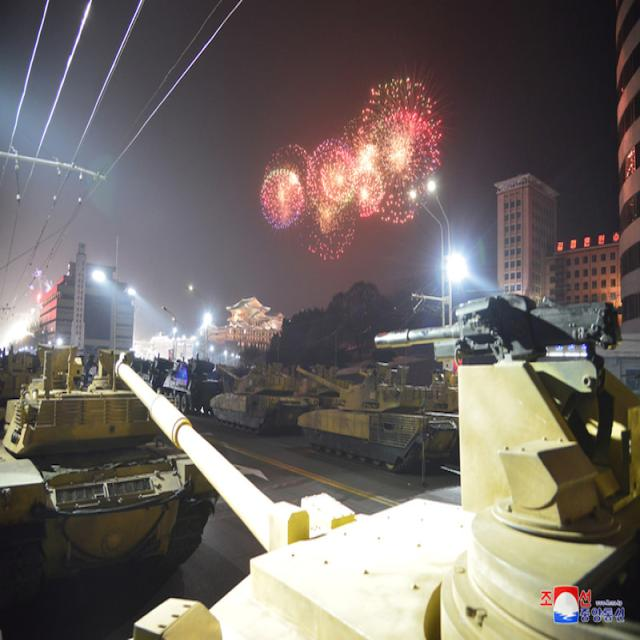north tank: (0, 328, 218, 602)
